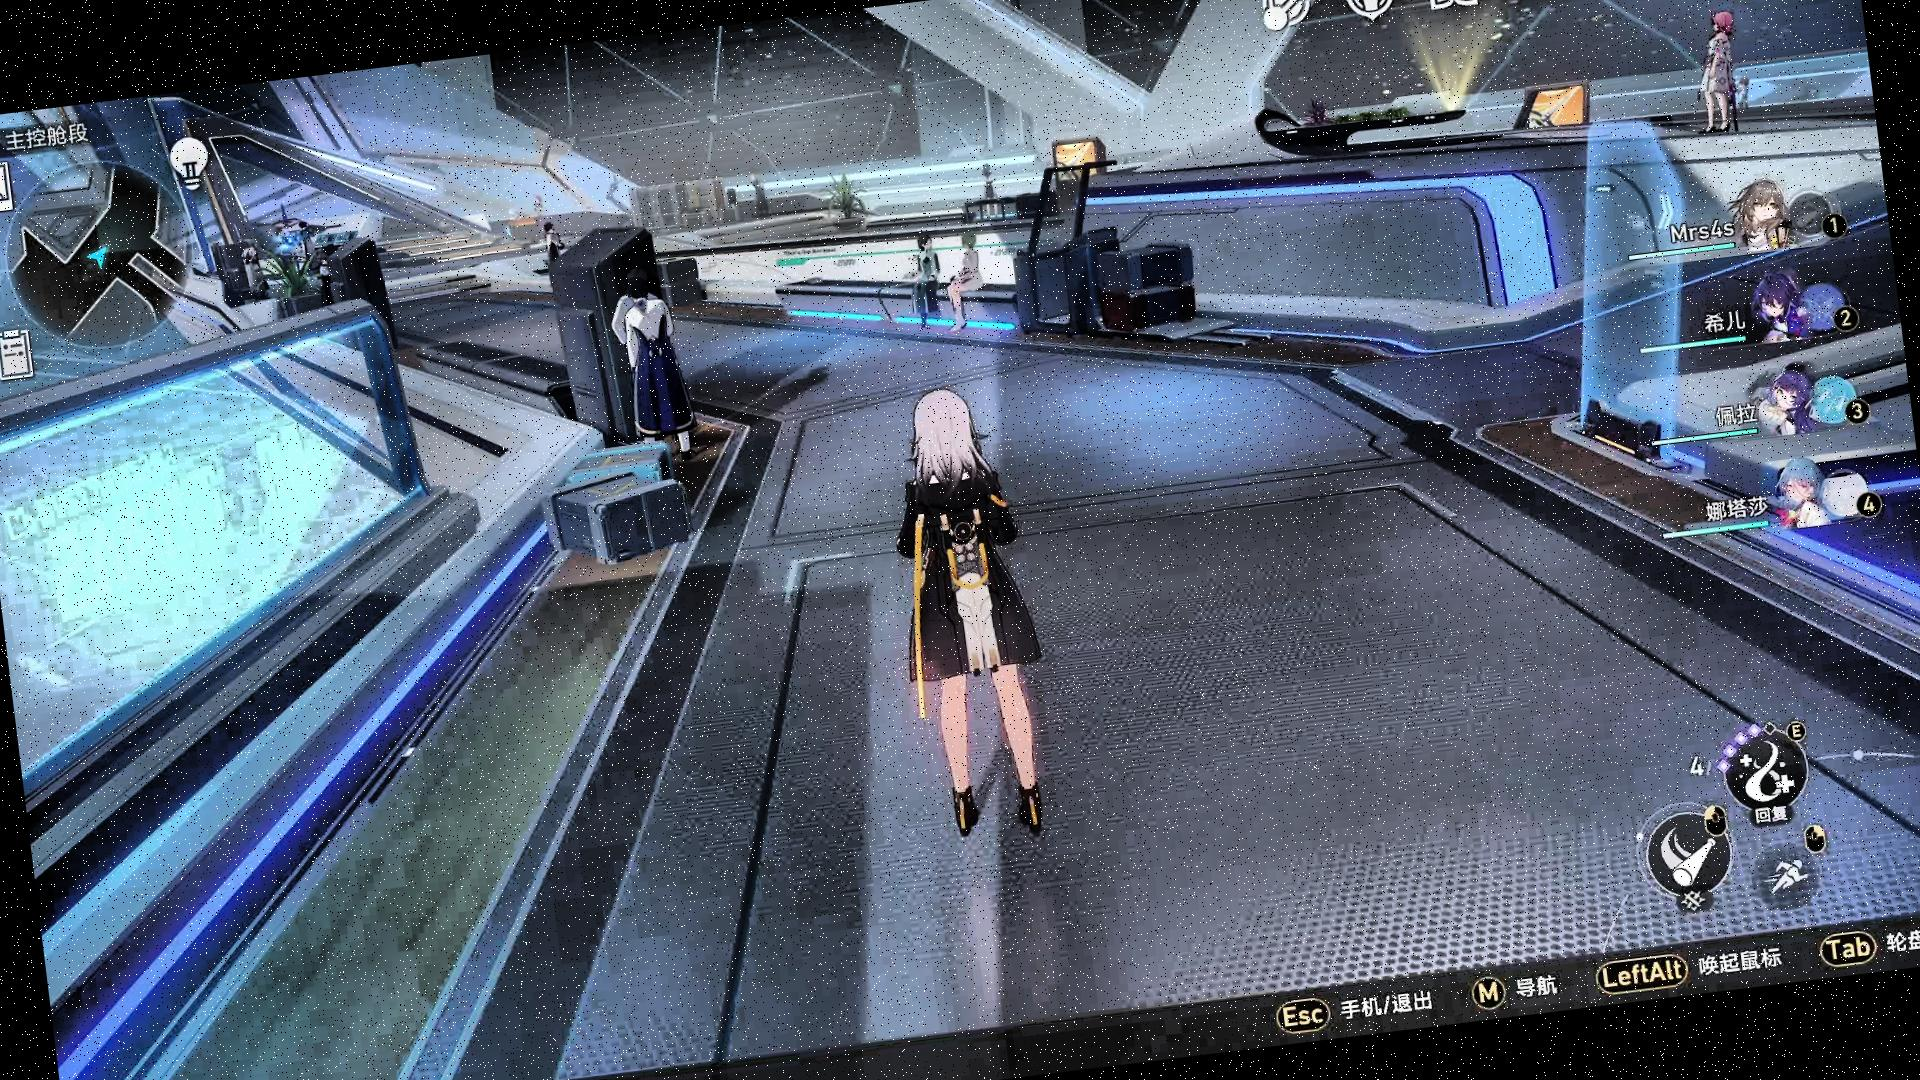Self: (876, 381, 1062, 868)
TeamMate: (601, 258, 702, 454), (1687, 4, 1753, 141), (938, 223, 990, 330), (905, 231, 943, 328), (534, 212, 564, 261)
